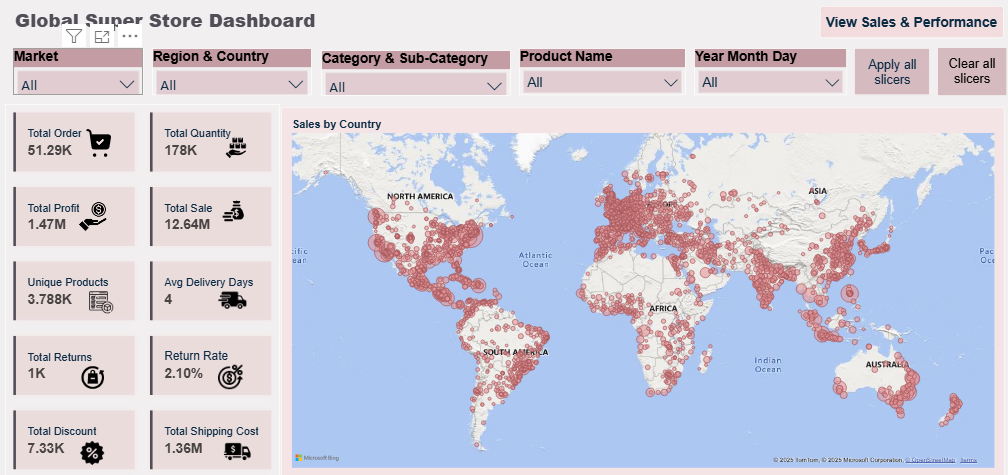

Layout of this report page (visuals, bound fields, positions):
{"tool":"powerbi","page":{"name":"Summary","canvas":[1500,720],"ordinal":0},"visuals":[{"type":"cardVisual","fields":{"Data":["CountNonNull(Orders.Order ID)","Sum(Orders.Quantity)","Measures (2).Total Profit","Measures (2).Total Sale","Count(Orders.Product ID)","Measures (2).Avg Delivery Days","Measures (2).Total Returns","Measures (2).Return Rate","Sum(Orders.Discount)","Sum(Orders.Shipping Cost)"]},"box":[12.6,157.1,402.2,546.8],"z":0},{"type":"textbox","box":[18.4,0,821.1,60.2],"z":1000},{"type":"image","box":[108.9,173.9,83.8,77.5],"z":2000},{"type":"image","box":[310.1,190.6,81.7,60.8],"z":3000},{"type":"image","box":[98.5,282.8,88,77.5],"z":4000},{"type":"image","box":[314.2,282.8,64.9,60.8],"z":5000},{"type":"image","box":[121.5,414.8,64.9,64.9],"z":6000},{"type":"image","box":[303.8,408.5,83.8,71.2],"z":7000},{"type":"image","box":[98.5,525.8,88,62.8],"z":8000},{"type":"image","box":[308,519.6,71.2,73.3],"z":9000},{"type":"image","box":[317.7,630.4,70.2,68.6],"z":10000},{"type":"image","box":[108.9,630.6,64.9,73.3],"z":11000},{"type":"slicer","title":"Market","fields":{"Values":["Orders.Market"]},"box":[25.1,75.3,190.6,68.6],"z":12000},{"type":"slicer","title":"Region & Country","fields":{"Values":["Orders.Region","Orders.Country"]},"box":[228.3,75.3,234.1,68.6],"z":13000},{"type":"slicer","title":"Category & Sub-Category","fields":{"Values":["Orders.Category","Orders.Sub-Category"]},"box":[474.9,76.9,277.6,66.9],"z":14000},{"type":"slicer","title":"Product Name","fields":{"Values":["Orders.Product Name"]},"box":[765.1,75.3,244.1,68.6],"z":15000},{"type":"slicer","title":"Year Month Day","fields":{"Values":["Calendar.Year","Calendar.Month","Calendar.Day"]},"box":[1021.5,74.6,223.9,68.8],"z":16000},{"type":"actionButton","box":[1378.5,74.6,99.5,68.8],"z":17000},{"type":"map","title":"Sales by Country","fields":{"Category":["Orders.CC"],"Size":["Sum(Orders.Sales)"]},"box":[416.4,160.5,1058.5,543.5],"z":18000},{"type":"actionButton","title":"View Sales & Performance","box":[1205.7,13.4,269.2,46.8],"z":19000},{"type":"actionButton","box":[1255.6,74.6,111.2,68.8],"z":20000}]}

Visuals, with their boxes in screenshot pixels (x1, y1, x2, y2), scaled from the page's 1500x720 canvas onto the 1008x475 screenshot:
cardVisual - CountNonNull(Orders.Order ID) x Sum(Orders.Quantity): <region>8, 104, 279, 464</region>
textbox: <region>12, 0, 564, 40</region>
image: <region>73, 115, 129, 166</region>
image: <region>208, 126, 263, 166</region>
image: <region>66, 187, 125, 238</region>
image: <region>211, 187, 255, 227</region>
image: <region>82, 274, 125, 316</region>
image: <region>204, 269, 260, 316</region>
image: <region>66, 347, 125, 388</region>
image: <region>207, 343, 255, 391</region>
image: <region>213, 416, 261, 461</region>
image: <region>73, 416, 117, 464</region>
"Market" slicer: <region>17, 50, 145, 95</region>
"Region & Country" slicer: <region>153, 50, 311, 95</region>
"Category & Sub-Category" slicer: <region>319, 51, 506, 95</region>
"Product Name" slicer: <region>514, 50, 678, 95</region>
"Year Month Day" slicer: <region>686, 49, 837, 95</region>
actionButton: <region>926, 49, 993, 95</region>
"Sales by Country" map: <region>280, 106, 991, 464</region>
"View Sales & Performance" actionButton: <region>810, 9, 991, 40</region>
actionButton: <region>844, 49, 918, 95</region>
